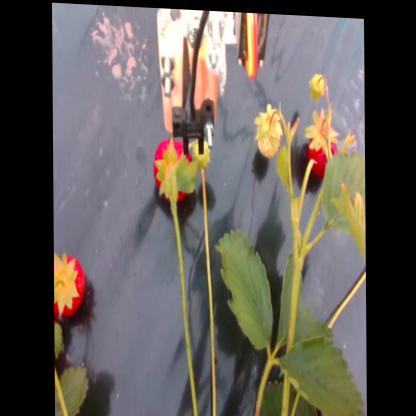ripe: (151, 129, 192, 203), (54, 254, 91, 327), (303, 119, 341, 175)
unripe: (256, 104, 282, 158)
